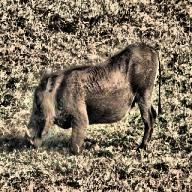boar: (22, 42, 162, 155)
